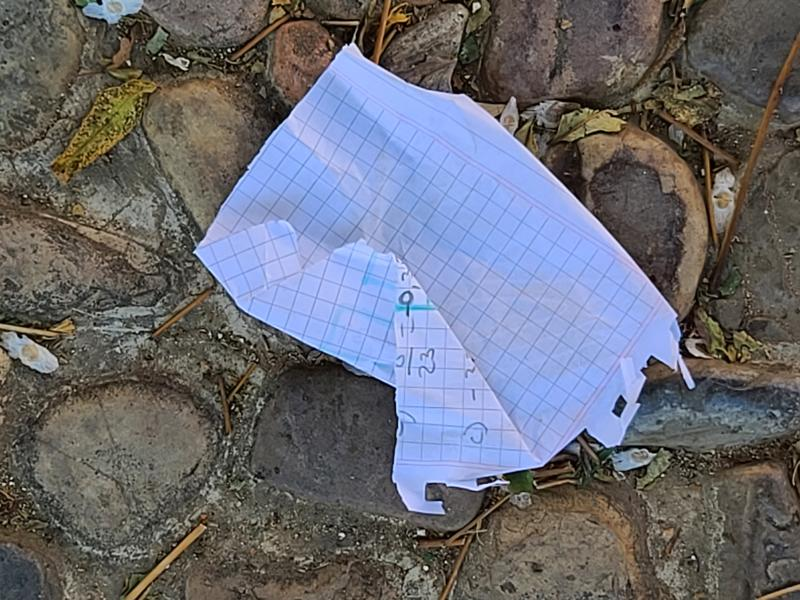papel: (194, 45, 692, 517)
